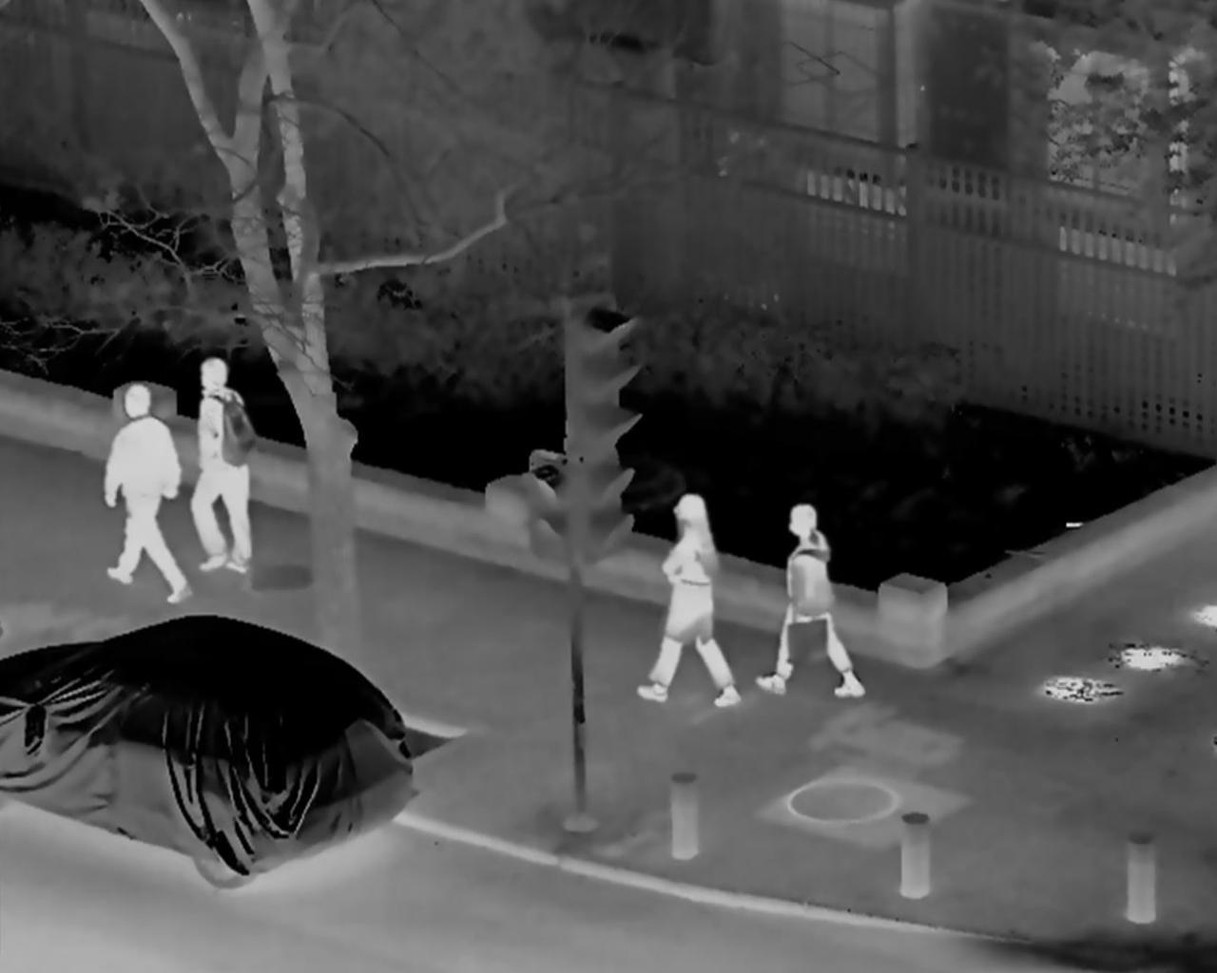person: (752, 497, 865, 705), (637, 496, 742, 710), (94, 388, 186, 601), (184, 357, 254, 576)
